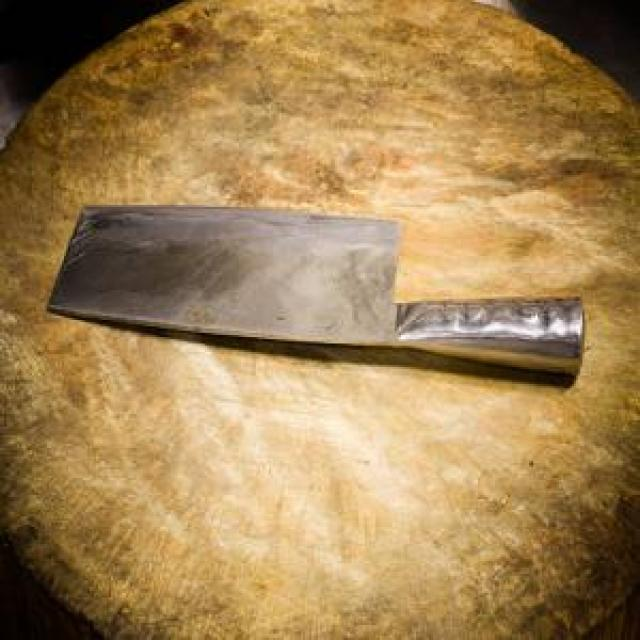knife: (49, 203, 590, 416)
